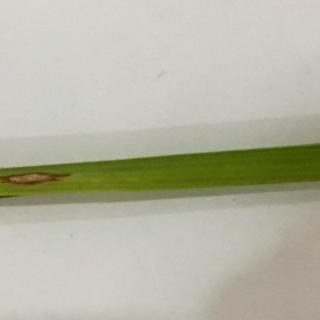Blast: (0, 160, 73, 192)
